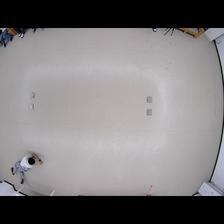fall: (10, 148, 42, 186)
